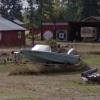Boat: (16, 39, 87, 70)
